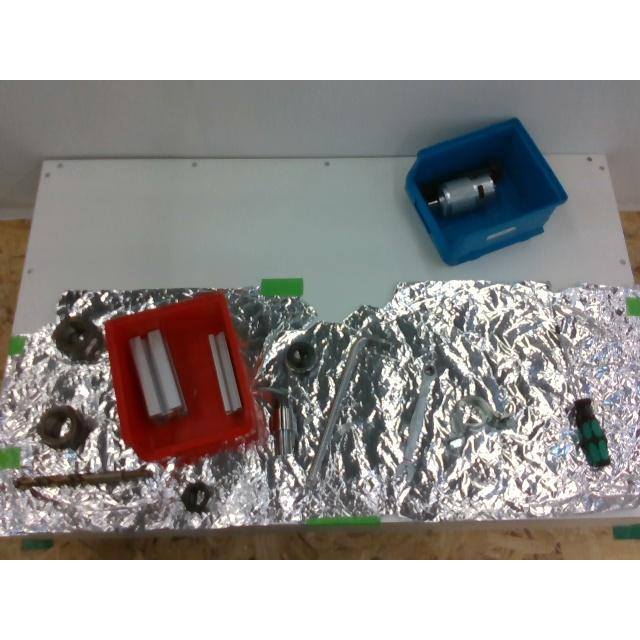AllenKey: (306, 335, 390, 491)
Axis2: (263, 390, 297, 454)
Bearing2: (284, 336, 316, 376)
Drill: (14, 466, 152, 489)
F20_20_G: (209, 332, 241, 412)
Housing: (448, 395, 516, 445)
M20: (180, 480, 214, 512)
M30: (36, 406, 94, 450), (52, 315, 104, 363)
Motor2: (427, 170, 495, 216)
S40_40_G: (129, 328, 185, 416)
Screwdriver: (554, 324, 610, 468)
Wrench: (398, 359, 434, 477)
container_box_blue: (406, 118, 566, 264)
container_box_red: (105, 293, 262, 461)
